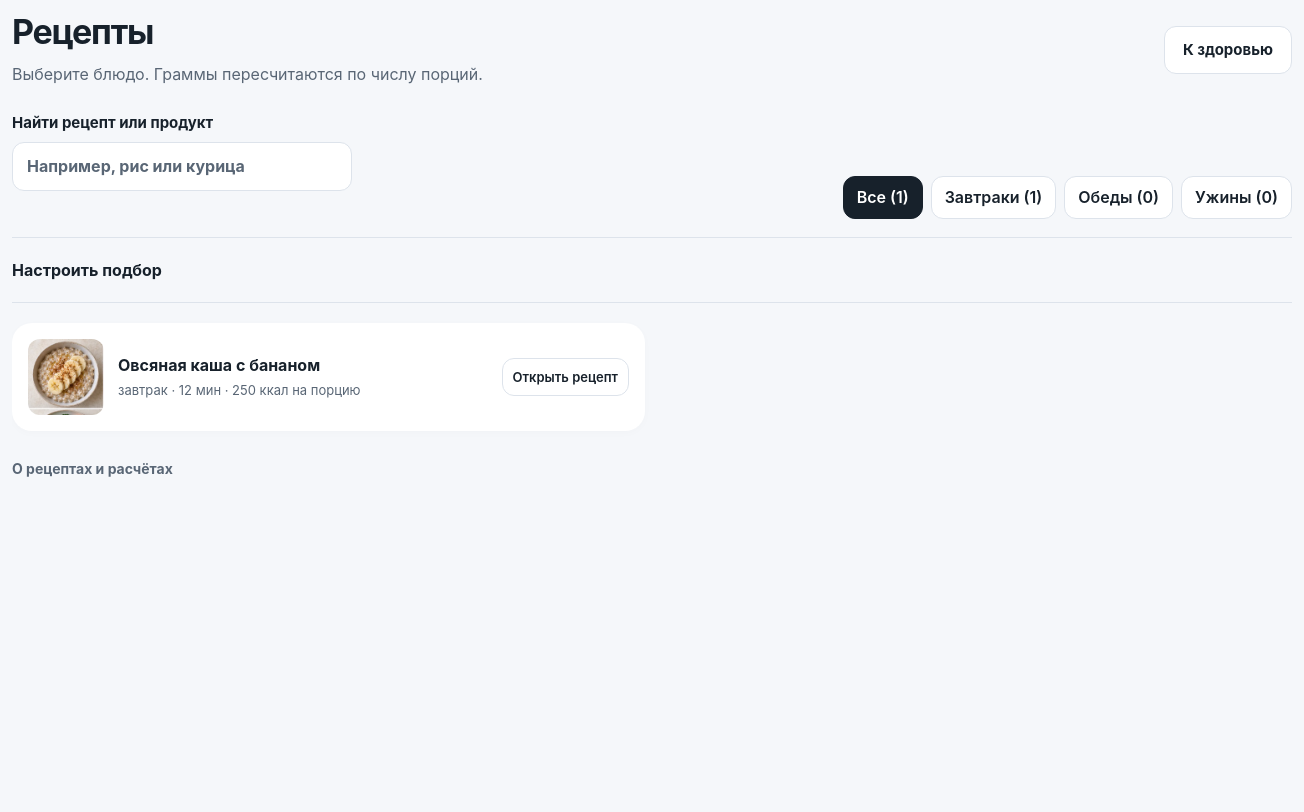
Scenario: recipe preferences are optional and recipes remain the first visible content
The width and height of the screenshot is (1304, 812).
Expected: the text "Овсяная каша с бананом" is shown, [118, 355, 320, 375]
Click the heading "Настроить подбор" at point(87, 270), box [12, 260, 162, 280]
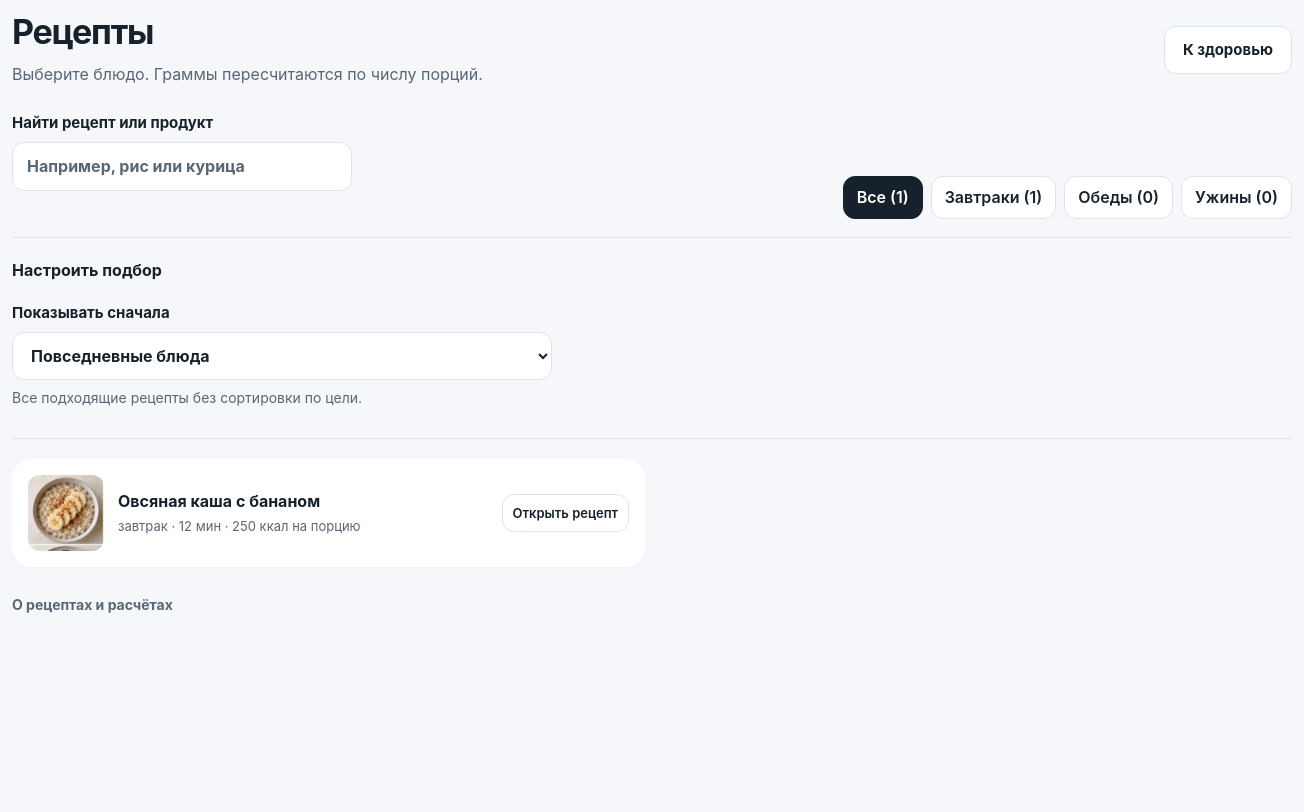
Result: the dropdown labelled "Показывать сначала" is shown at [12, 332, 552, 380]
